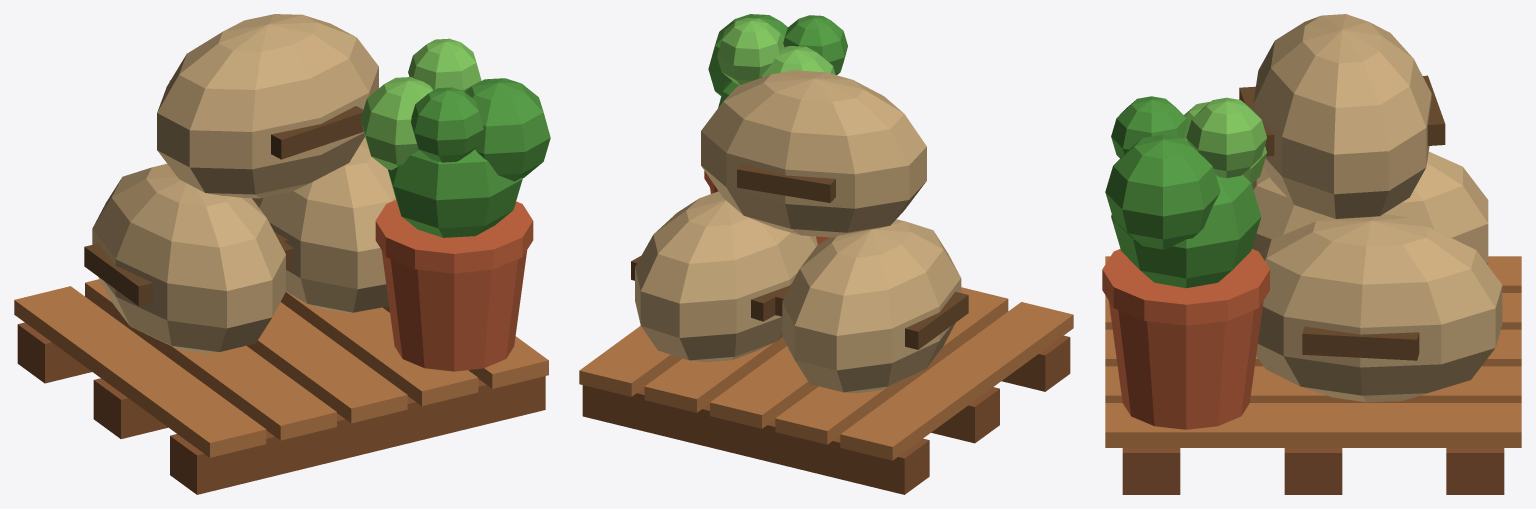
The model's file is CornerDecor.glb.
The picture shows the model from 3 angles, left to right: view 1: azimuth 30°, elevation 25°; view 2: azimuth 150°, elevation 25°; view 3: azimuth 270°, elevation 25°; orthographic projection. The views are drawn at different scales.
Visible parts, largest first — view 1: CornerDecor; view 2: CornerDecor; view 3: CornerDecor.
Boxes of the visible parts, box(x1,y1,x2,y2) form: CornerDecor: box(14, 14, 550, 494); CornerDecor: box(579, 14, 1073, 494); CornerDecor: box(1102, 14, 1521, 494).
Bounding box in the file's own units: 0.78 × 0.715 × 0.725.
